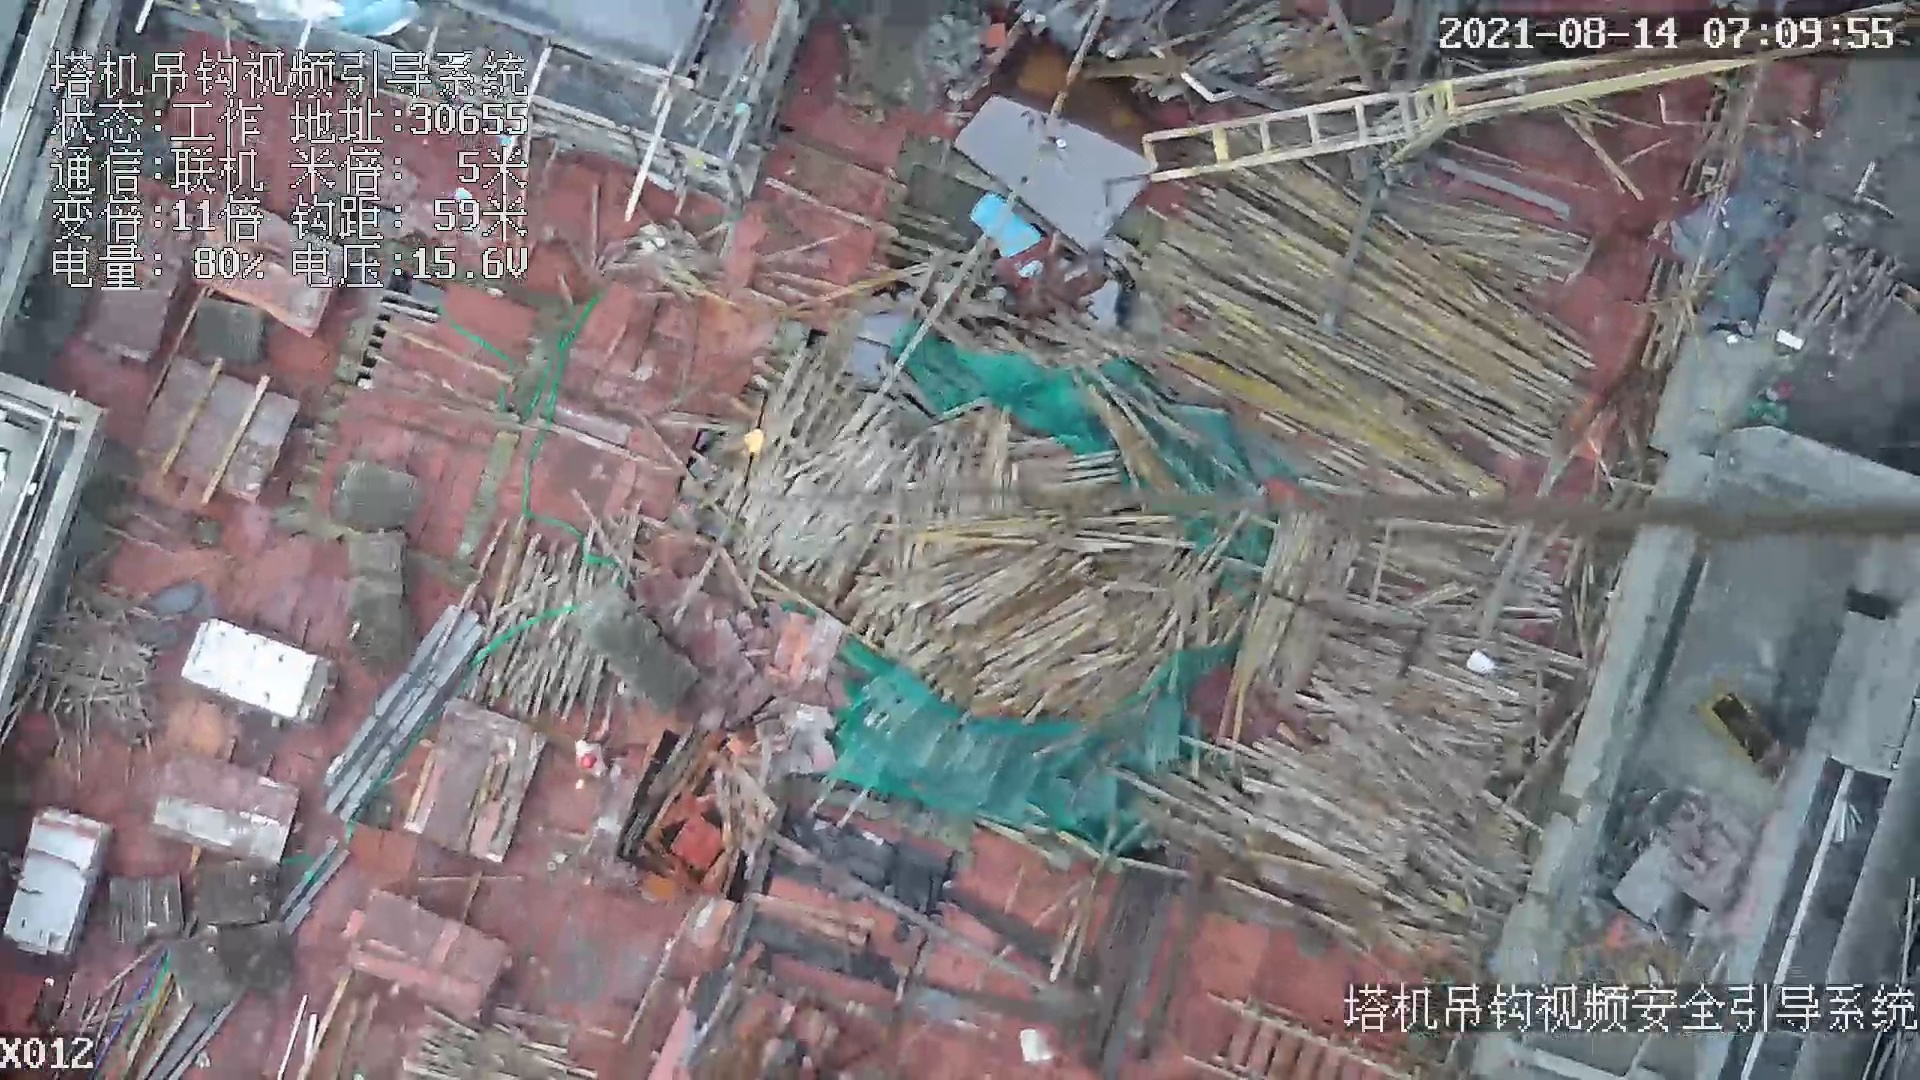helmet: (582, 752, 598, 769)
hook: (733, 389, 773, 497)
person: (572, 719, 627, 783)
